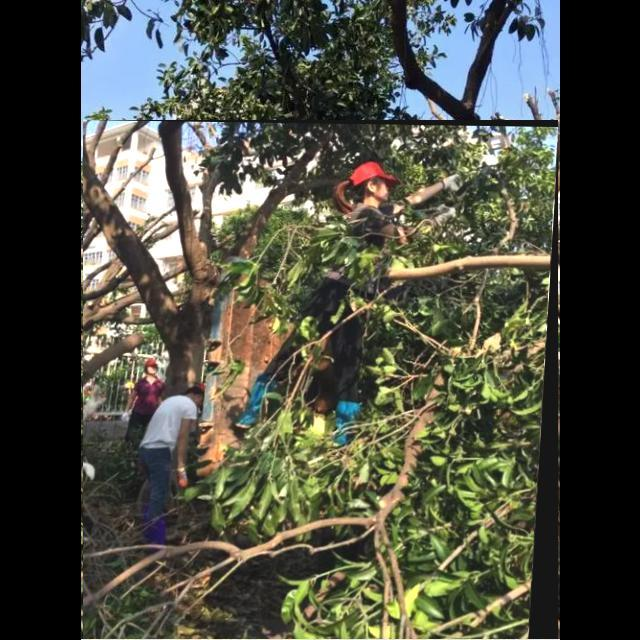fallen_tree: (83, 120, 559, 640)
